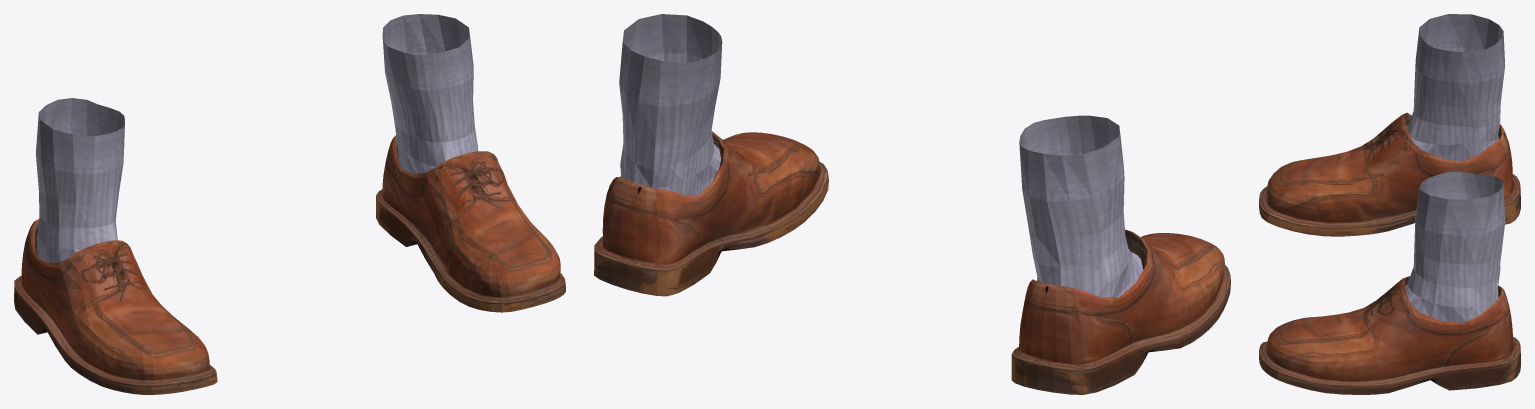
The model's file is mhw_shoes01.glb.
3 renders of one model, left to right at view 1: azimuth 30°, elevation 25°; view 2: azimuth 150°, elevation 25°; view 3: azimuth 270°, elevation 25°, orthographic. The views are drawn at different scales.
Visible parts, largest first — view 1: mhw_shoes01; view 2: mhw_shoes01; view 3: mhw_shoes01.
Boxes of the visible parts, x1,y1,x2,y2 form: mhw_shoes01: (14,14,565,394); mhw_shoes01: (594,14,1230,394); mhw_shoes01: (1259,14,1520,394).
Size of the model in its own units: 0.5375 by 0.2301 by 0.2895.
Materials: 1 (1 with a texture image).
